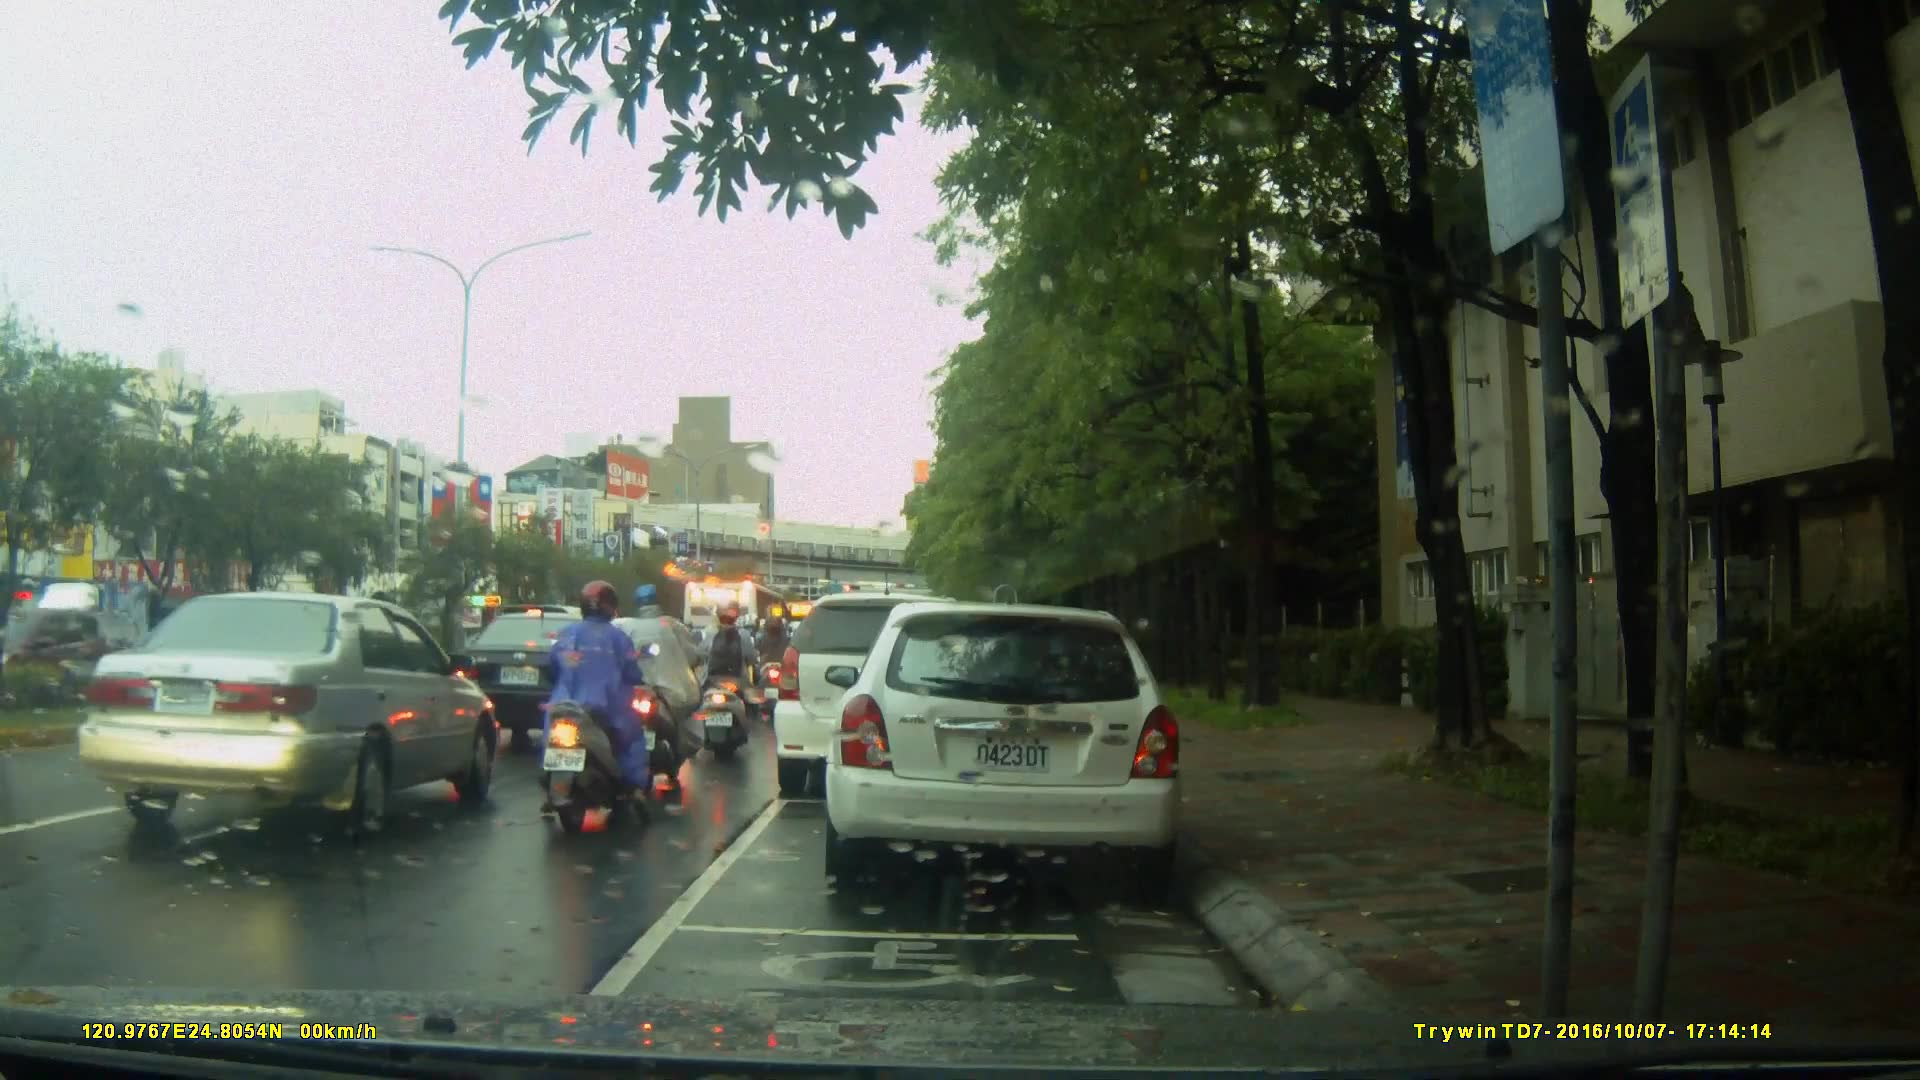rider: (535, 578, 649, 834), (632, 583, 714, 780), (691, 599, 755, 746), (756, 612, 795, 717)
vehicle: (831, 592, 1196, 897), (77, 590, 505, 840), (769, 592, 999, 800), (449, 609, 629, 743), (681, 580, 802, 705), (4, 604, 118, 715)
